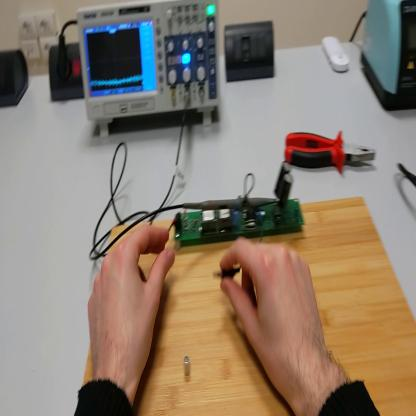hand: (219, 238, 334, 403), (86, 220, 176, 388)
high voltage board: (169, 162, 309, 247)
oscilloscope: (76, 2, 221, 140)
oscilloscope probe tip: (182, 195, 280, 214)
pliers: (282, 130, 377, 175)
socket: (50, 41, 86, 107), (1, 49, 30, 111)
welder station: (363, 4, 416, 111)
working area: (83, 200, 416, 415)
